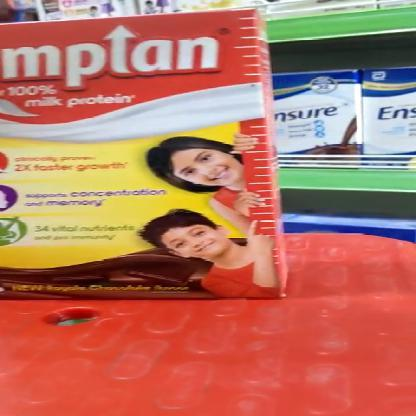Complan Royal Chocolate: (2, 11, 286, 298)
